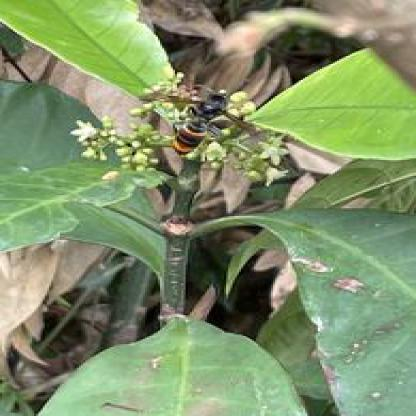Asian Hornet: (152, 80, 258, 161)
